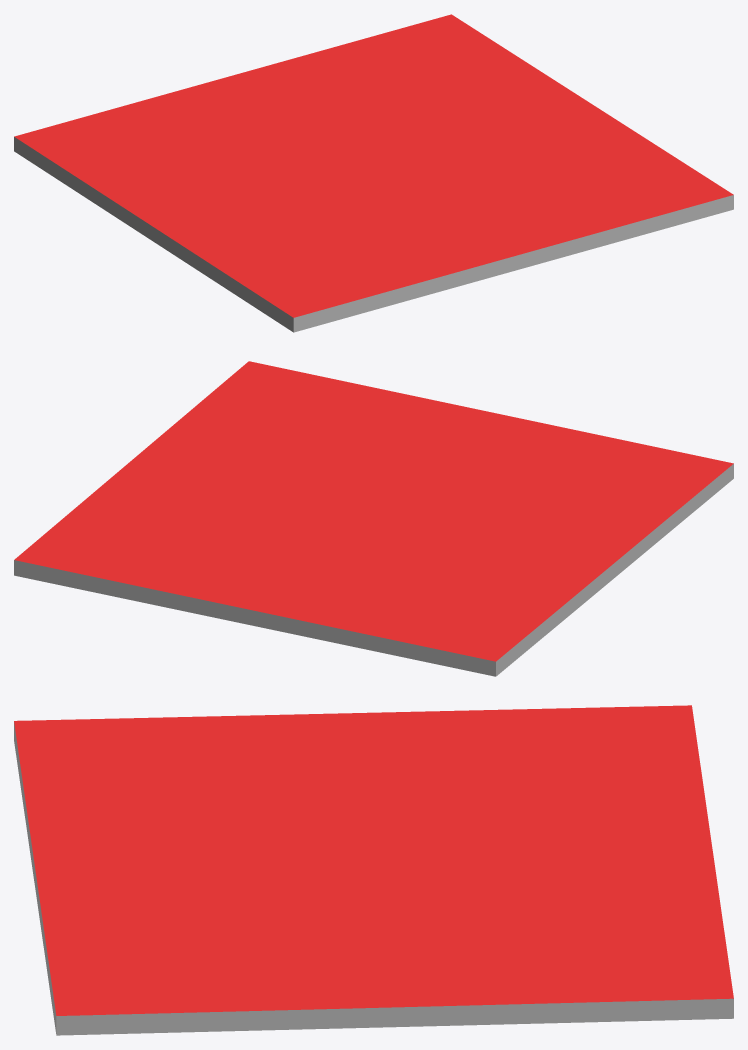
File: DEBE3D04YY50002cJf.dae
The picture shows the model from 3 angles, top to bottom: view 1: azimuth 30°, elevation 25°; view 2: azimuth 150°, elevation 25°; view 3: azimuth 270°, elevation 25°; orthographic projection. The views are drawn at different scales.
Bounding box in the file's own units: 2.32 × 2.28 × 0.07.
